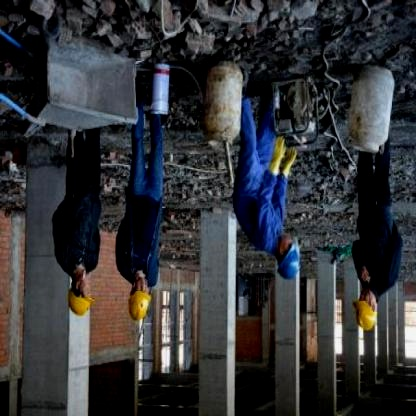blue: (278, 241, 304, 284)
yellow: (347, 298, 380, 337), (127, 288, 154, 324), (66, 292, 96, 320)
